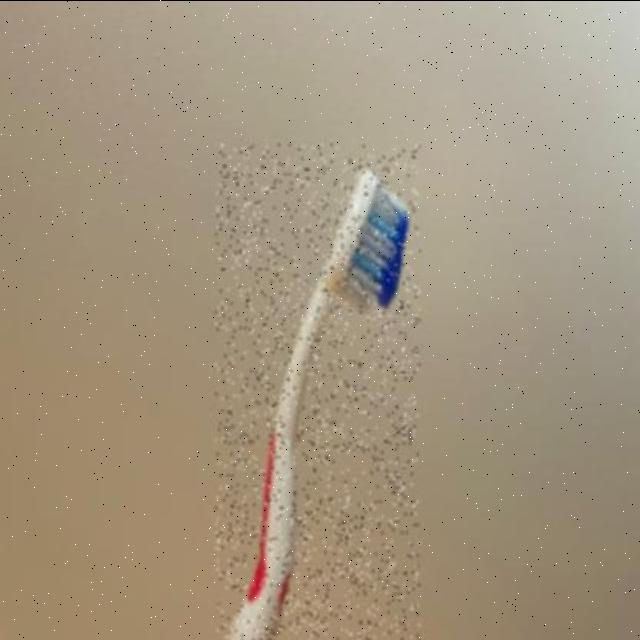toothbrush: (216, 144, 420, 640)
